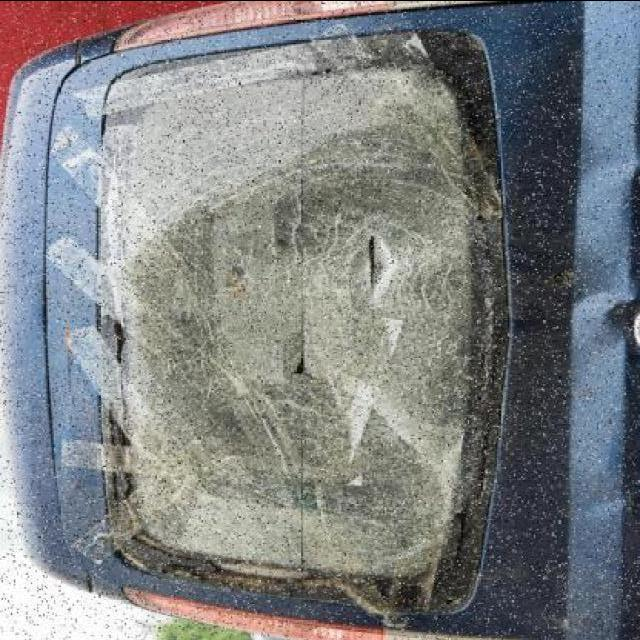Rear-windscreen-Damage: (71, 8, 562, 606)
